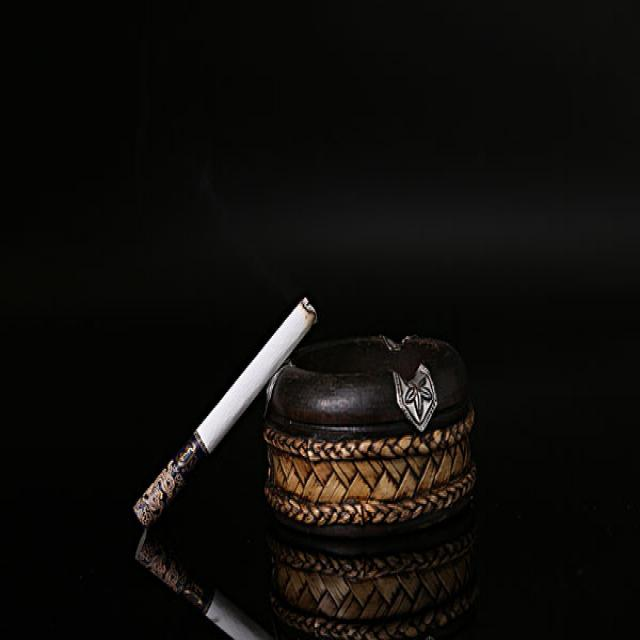smoking: (133, 298, 314, 527), (131, 532, 274, 636)
